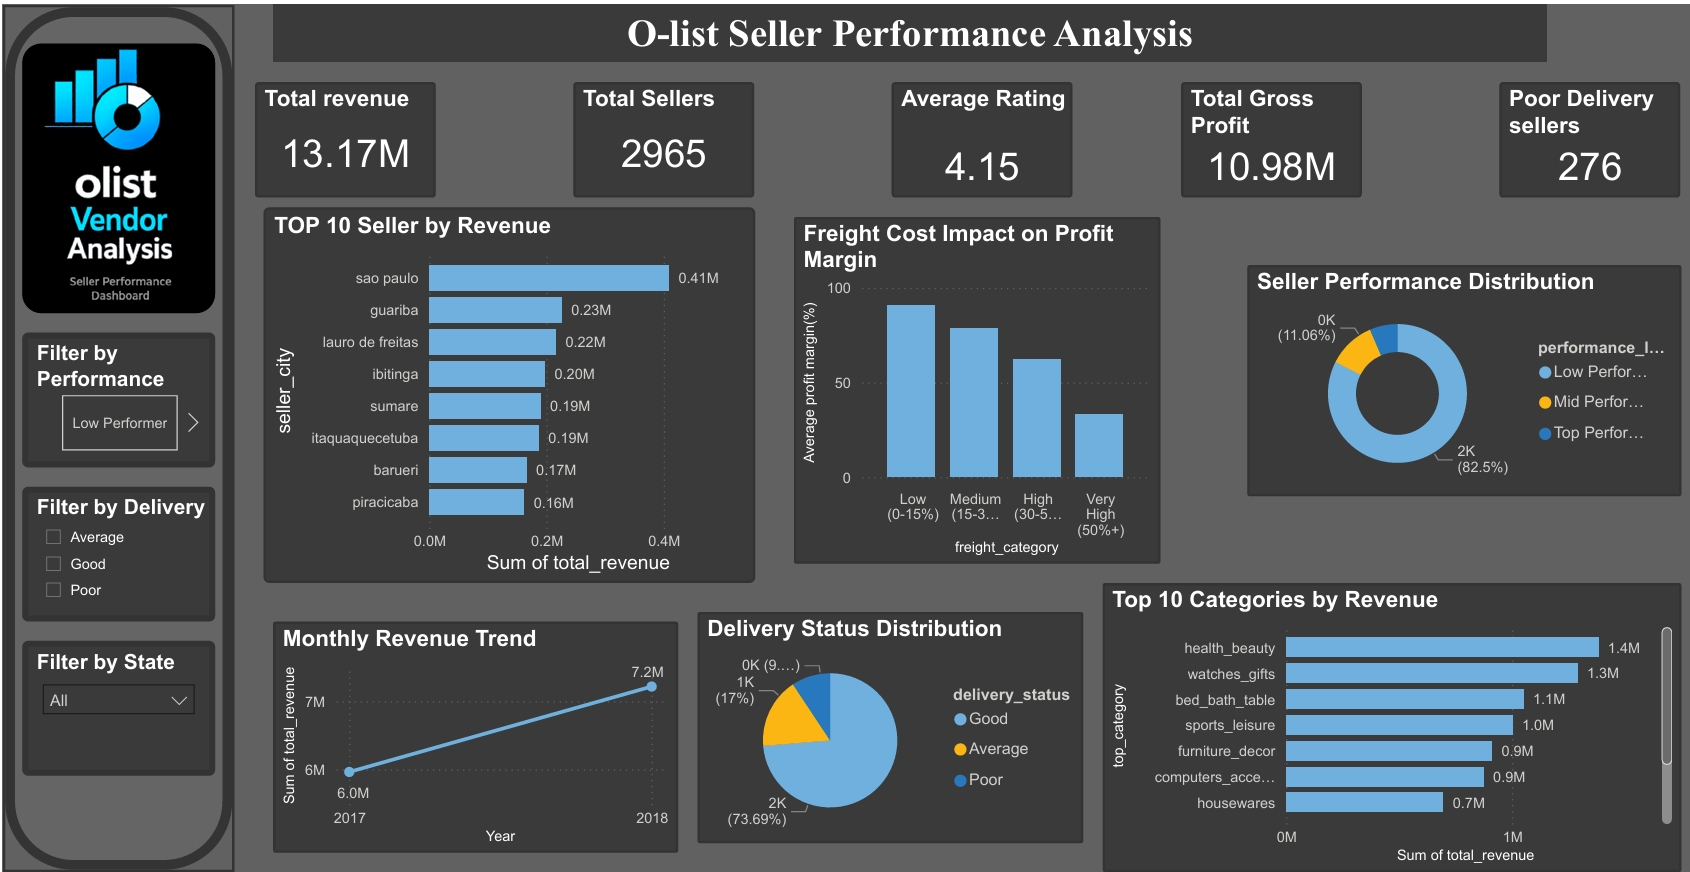

The page's visual inventory and layout, read from the dashboard file:
{"tool":"powerbi","page":{"name":"Seller Performance Dashboard","canvas":[1280,720],"ordinal":0},"visuals":[{"type":"textbox","box":[0,0,1280,77.5],"z":0},{"type":"card","title":"Total revenue","fields":{"Values":["Sum(seller_summary.total_revenue)"]},"box":[0,72,268,100],"z":1000},{"type":"card","title":"Total Sellers","fields":{"Values":["seller_summary.Total Sellers"]},"box":[252,72,268,100],"z":2000},{"type":"card","title":"Average Rating ","fields":{"Values":["seller_summary.Avg Rating"]},"box":[504,72,268,100],"z":3000},{"type":"card","title":"Total Gross Profit ","fields":{"Values":["Sum(seller_summary.gross_profit)"]},"box":[756,72,268,100],"z":4000},{"type":"card","title":"Poor Delivery sellers","fields":{"Values":["seller_summary.Poor Delivery Sellers"]},"box":[1008,72,268,100],"z":5000},{"type":"clusteredBarChart","title":"TOP 10 Seller by Revenue","fields":{"Y":["Sum(seller_summary.total_revenue)"],"Category":["seller_summary.seller_city"]},"box":[0,168,408,336],"z":6000},{"type":"donutChart","title":"Seller Performance Distribution ","fields":{"Category":["seller_summary.performance_label"],"Y":["seller_summary.Total Sellers"]},"box":[888,240,384,192],"z":7000},{"type":"lineChart","title":"Monthly Revenue Trend ","fields":{"Category":["monthly_trends.year_month.Variation.Date Hierarchy.Year","monthly_trends.year_month.Variation.Date Hierarchy.Quarter","monthly_trends.year_month.Variation.Date Hierarchy.Month","monthly_trends.year_month.Variation.Date Hierarchy.Day"],"Y":["Sum(monthly_trends.total_revenue)"]},"box":[0,504,336,216],"z":8000},{"type":"clusteredColumnChart","title":"Freight Cost Impact on Profit Margin","fields":{"Category":["freight_analysis.freight_category"],"Y":["Sum(freight_analysis.avg_profit_margin)"]},"box":[432,168,384,312],"z":9000},{"type":"clusteredBarChart","title":"Top 10 Categories by Revenue","fields":{"Category":["category_analysis.top_category"],"Y":["Sum(category_analysis.total_revenue)"]},"box":[792,480,480,240],"z":10000},{"type":"pieChart","title":"Delivery Status Distribution","fields":{"Category":["seller_summary.delivery_status"],"Y":["seller_summary.Total Sellers"]},"box":[408,528,384,192],"z":11000}]}

Visuals, with their boxes on the page's 1280x720 design canvas (x1, y1, x2, y2). These are canvas units, not pixel positions in the 1690x872 screenshot, which may show the page scaled, cropped or inside an application window:
textbox: bbox=(0, 0, 1280, 78)
"Total revenue" card: bbox=(0, 72, 268, 172)
"Total Sellers" card: bbox=(252, 72, 520, 172)
"Average Rating " card: bbox=(504, 72, 772, 172)
"Total Gross Profit " card: bbox=(756, 72, 1024, 172)
"Poor Delivery sellers" card: bbox=(1008, 72, 1276, 172)
"TOP 10 Seller by Revenue" clusteredBarChart: bbox=(0, 168, 408, 504)
"Seller Performance Distribution " donutChart: bbox=(888, 240, 1272, 432)
"Monthly Revenue Trend " lineChart: bbox=(0, 504, 336, 720)
"Freight Cost Impact on Profit Margin" clusteredColumnChart: bbox=(432, 168, 816, 480)
"Top 10 Categories by Revenue" clusteredBarChart: bbox=(792, 480, 1272, 720)
"Delivery Status Distribution" pieChart: bbox=(408, 528, 792, 720)
